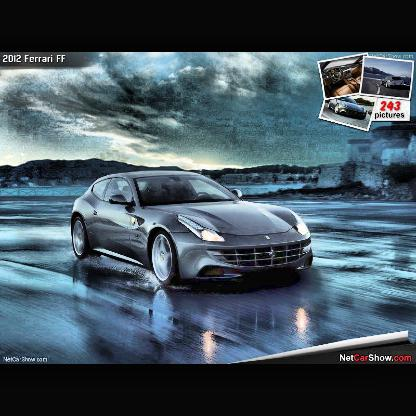Ferrari FF Coupe 2012: (70, 169, 317, 296)
